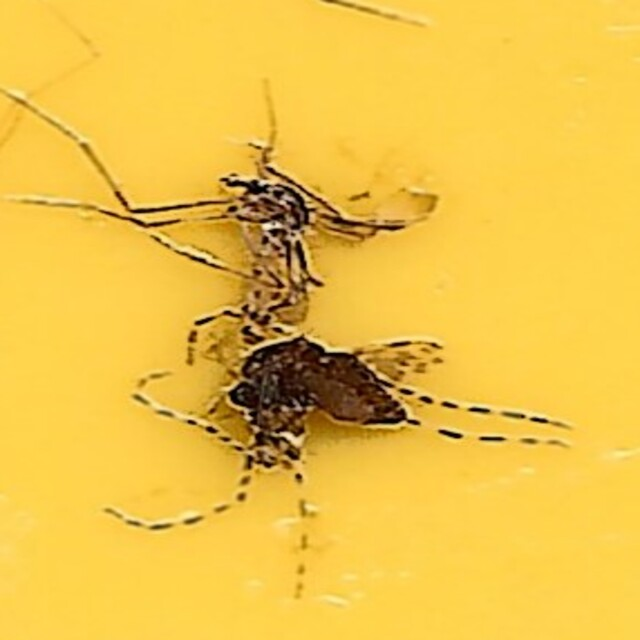Nematocera: (224, 333, 416, 472), (228, 168, 327, 336)
